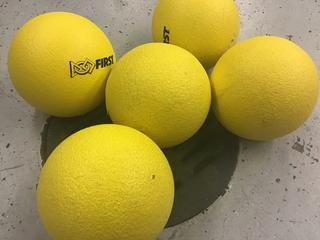power_cell: (34, 128, 186, 240), (218, 33, 314, 155), (104, 41, 213, 145), (8, 10, 111, 115), (156, 1, 241, 61)
